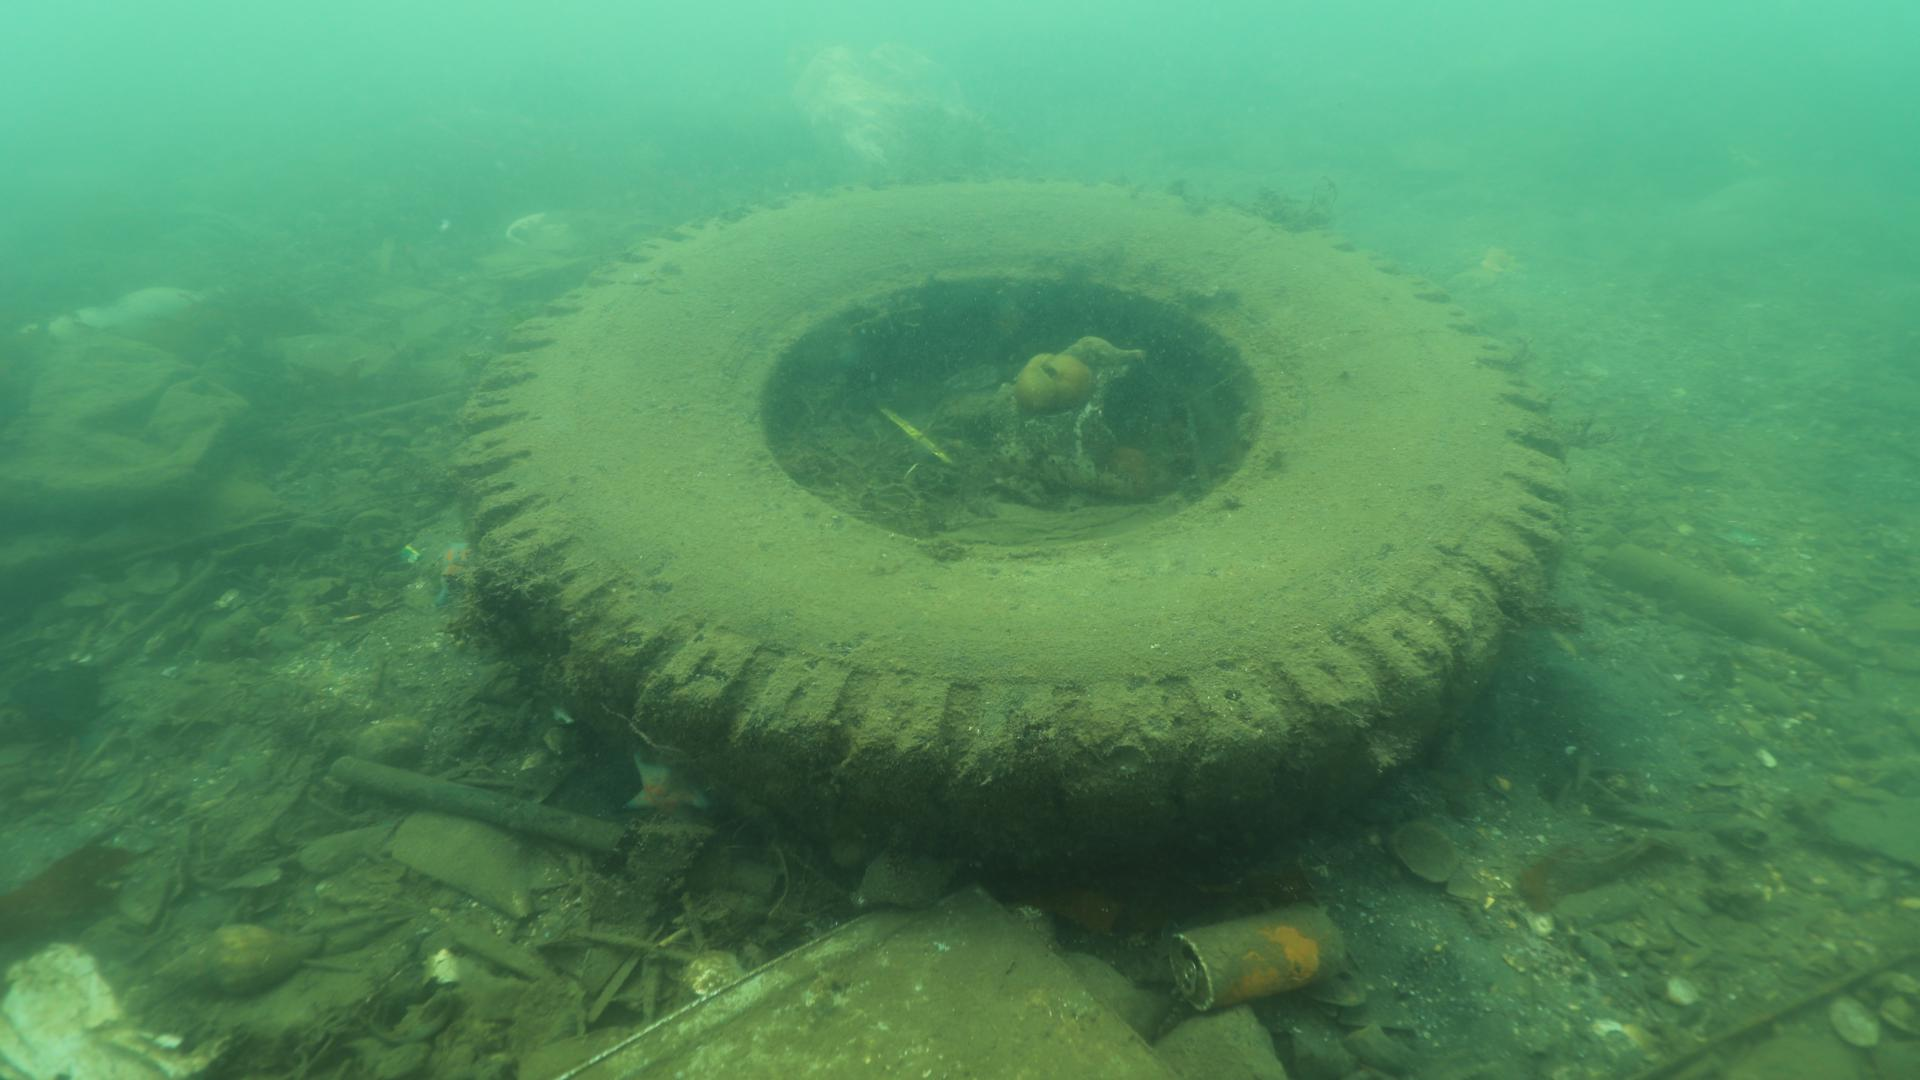tire: (454, 167, 1569, 866)
